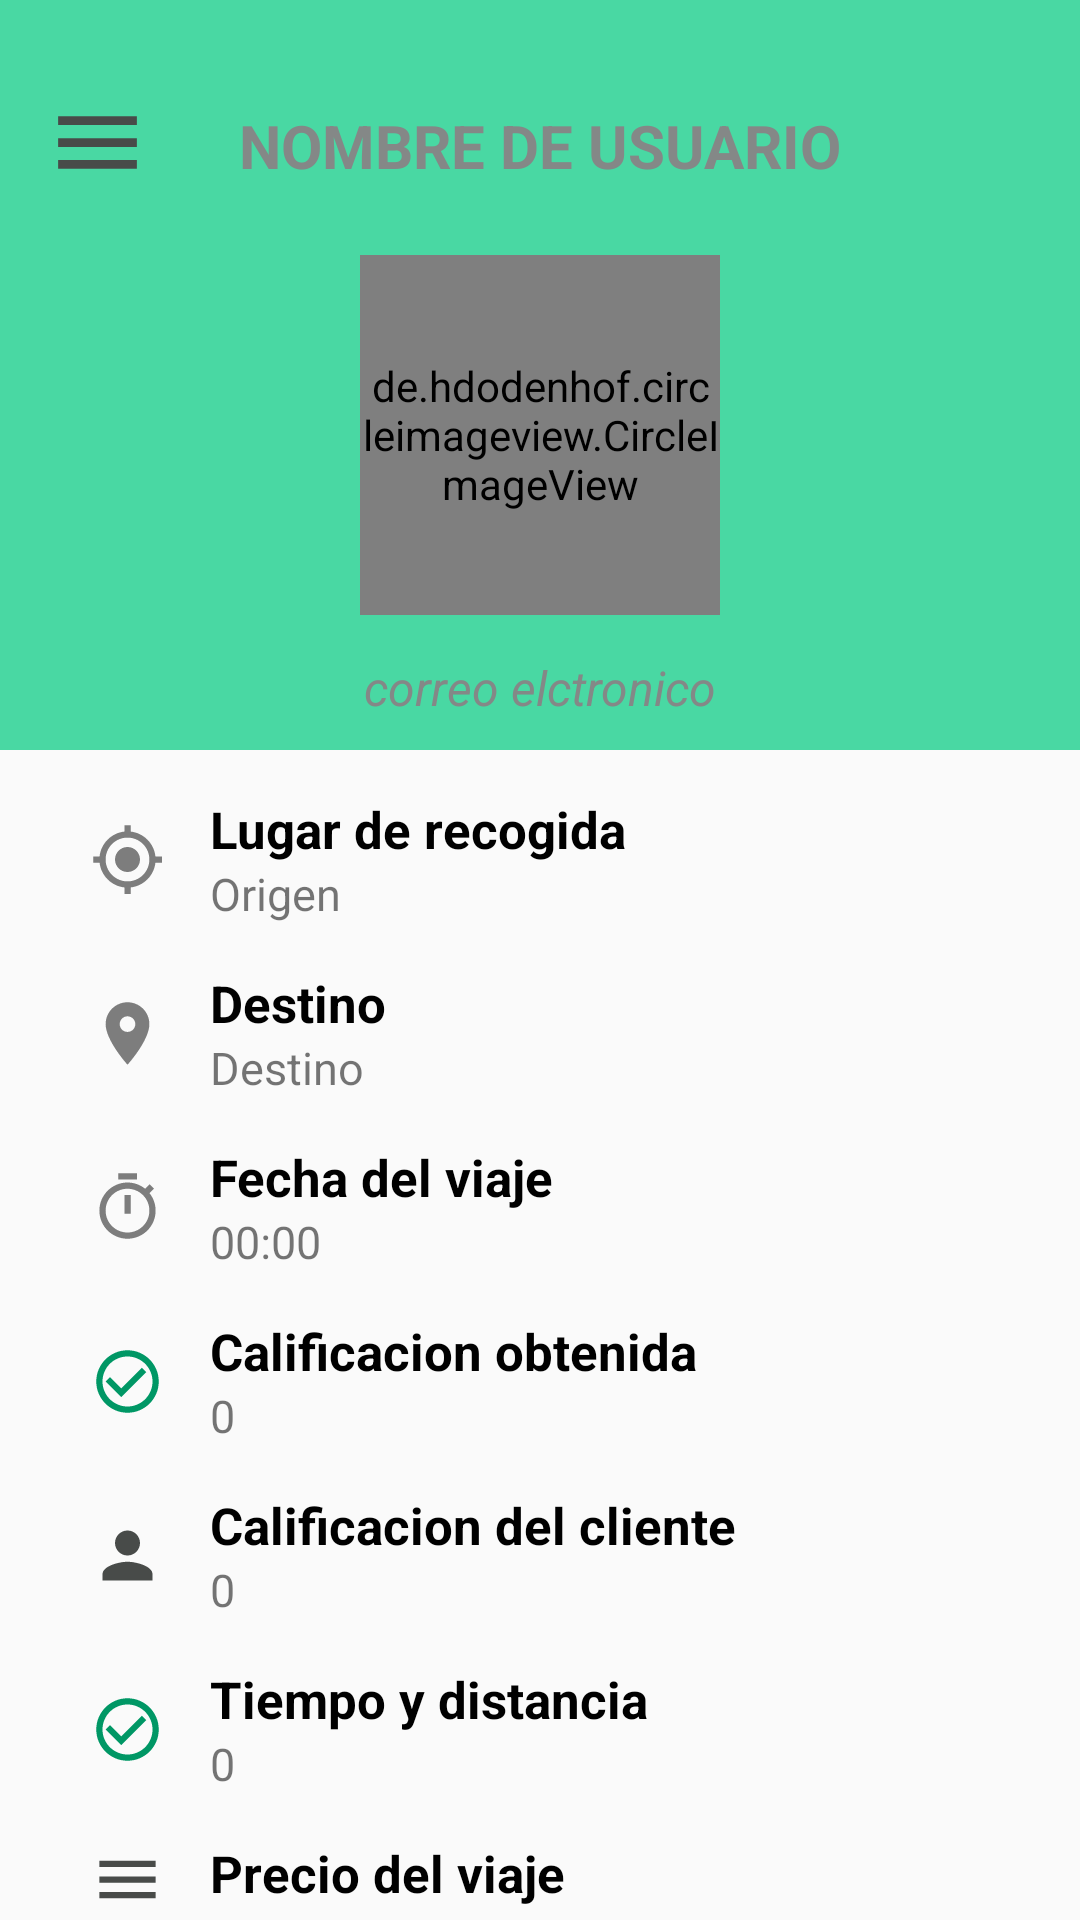

Locate icon controls on the screen. Image size 1080×1920, boxes as (x1,y1,x2,y2).
check: (96,1350,159,1413), (96,1698,159,1761)
location: (93,825,162,894), (105,1002,150,1065)
menu: (58,116,137,169), (99,1860,156,1899)
person: (102,1530,153,1581)
timer: (99,1173,156,1239)
